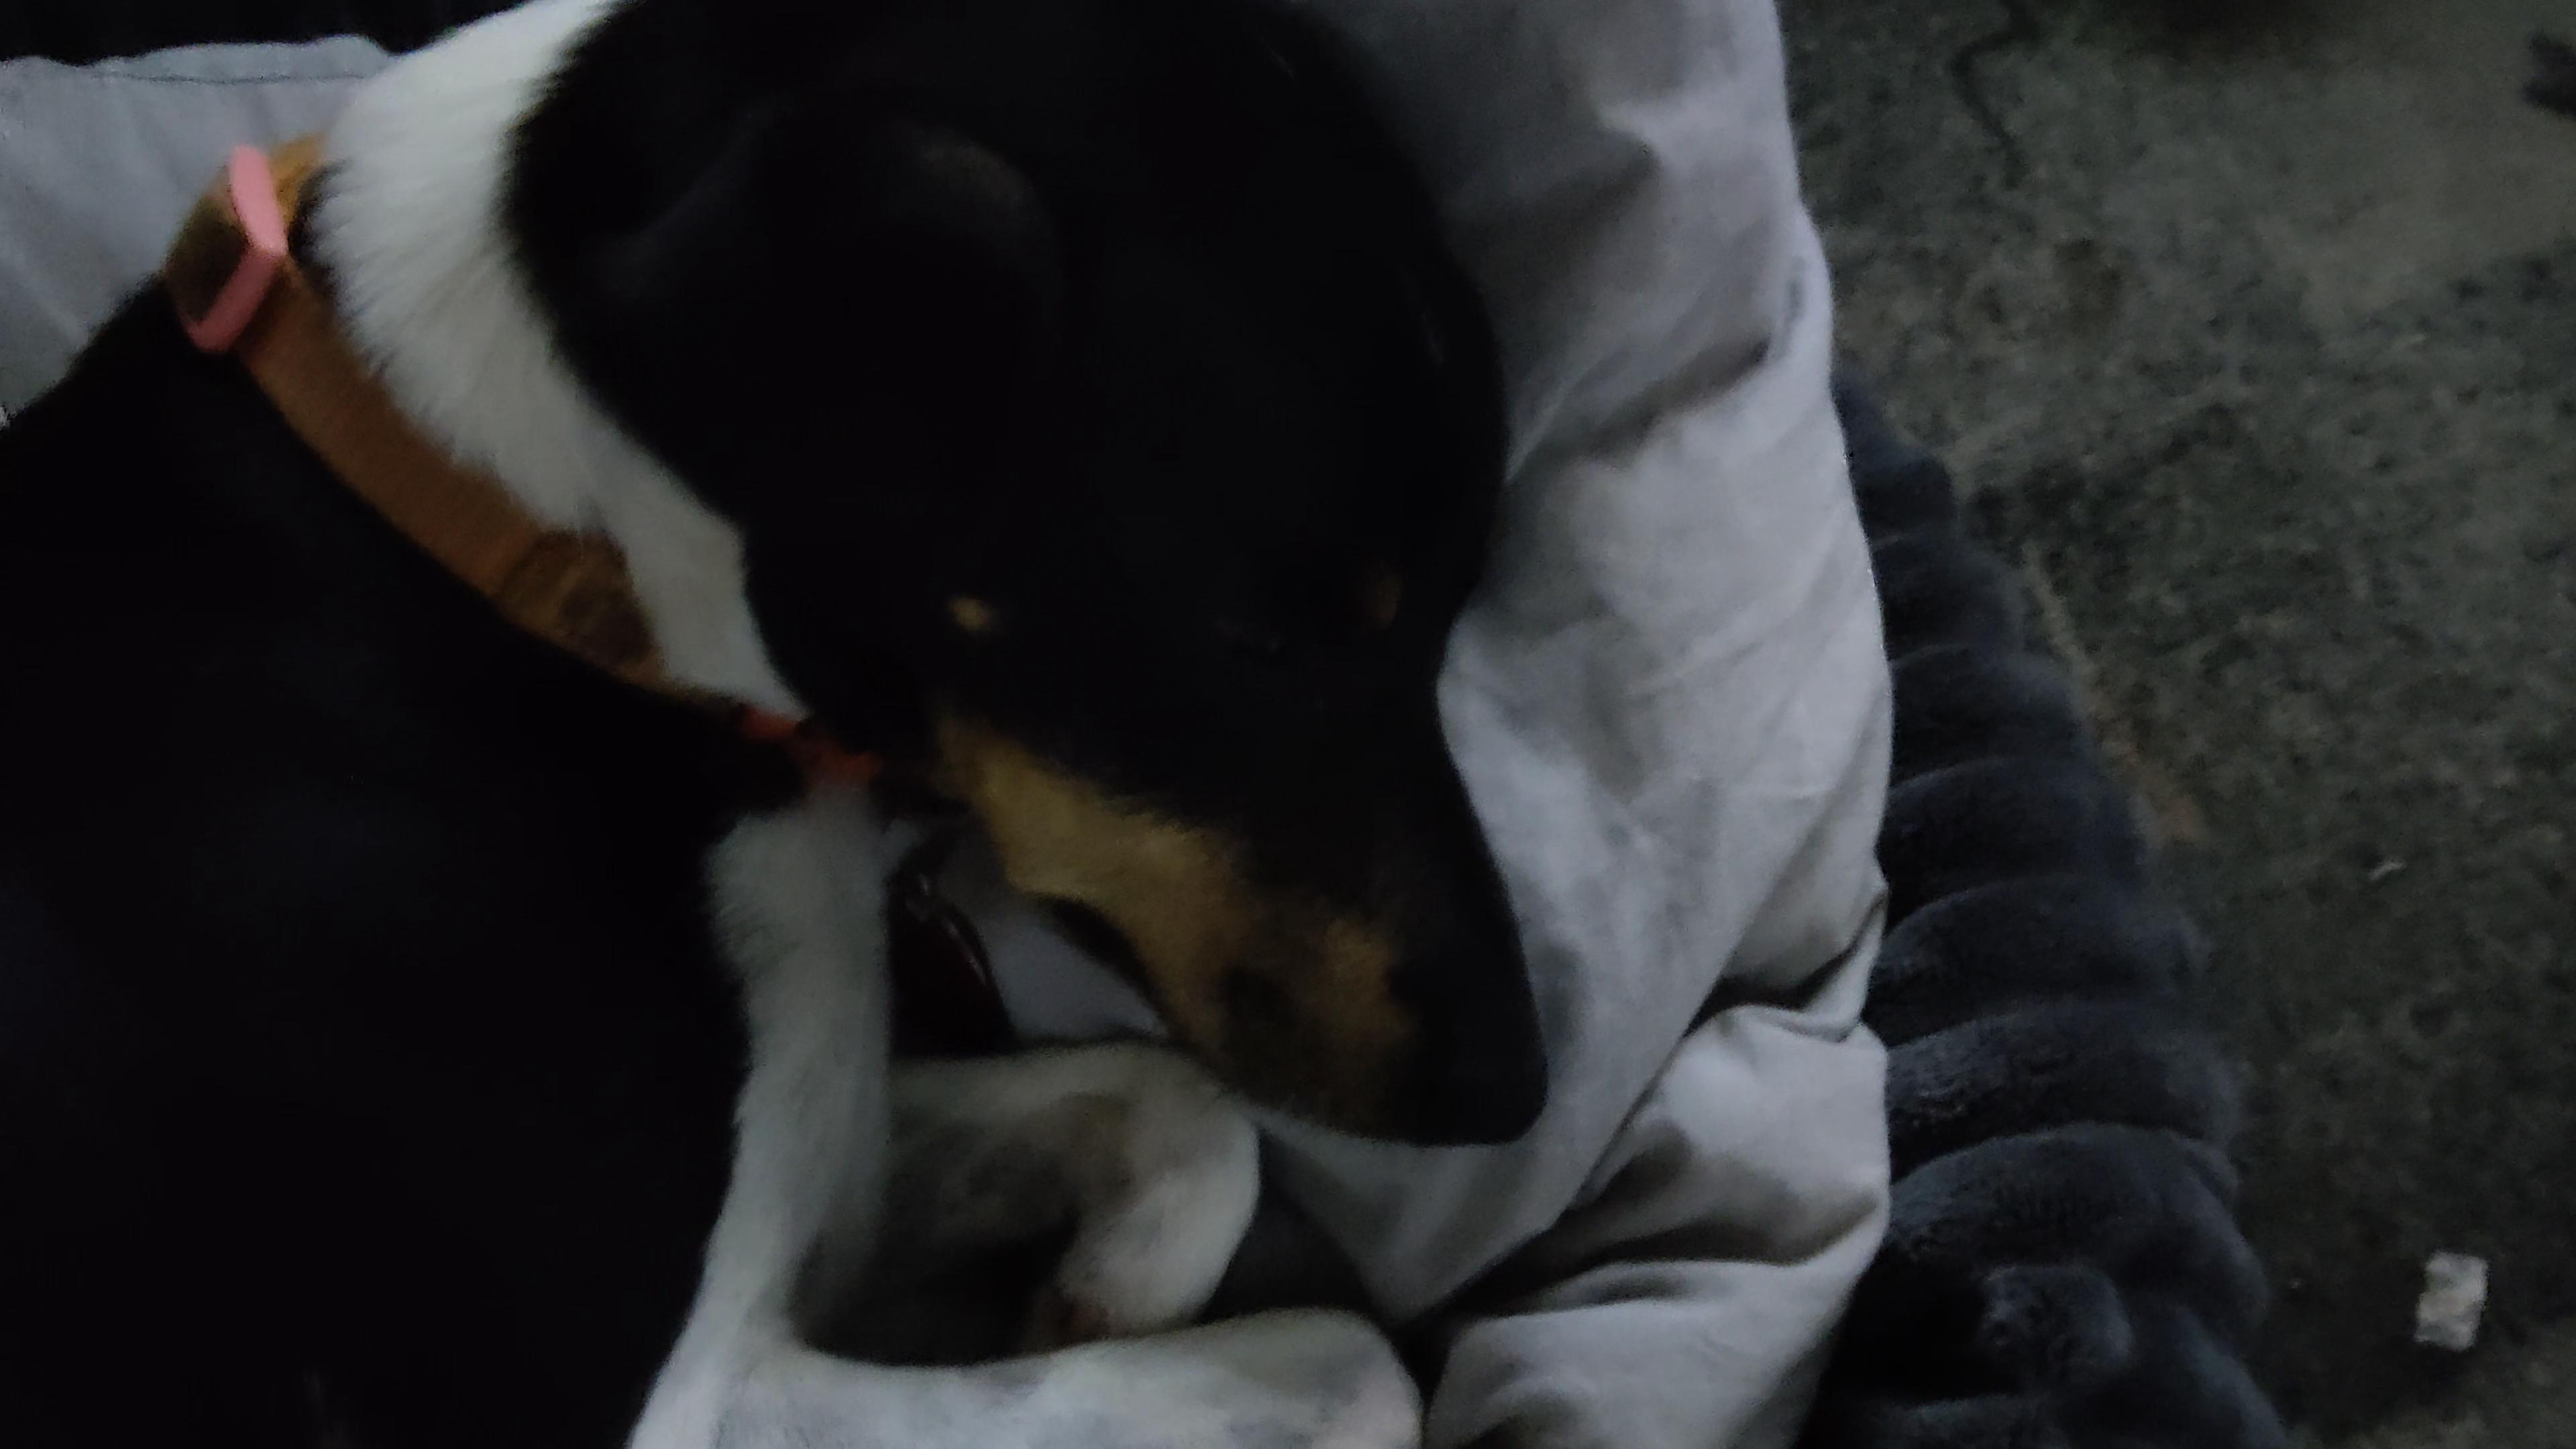Dog: (0, 0, 1564, 1449)
